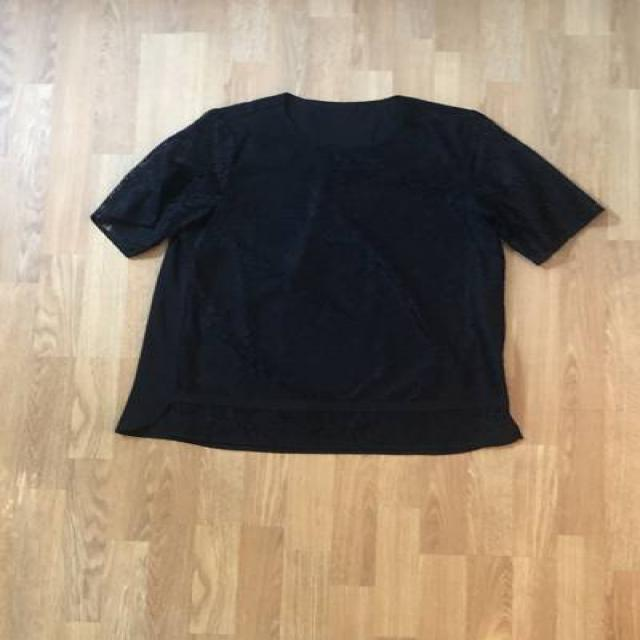Clothes -Biodegradable-: (89, 88, 606, 456)
